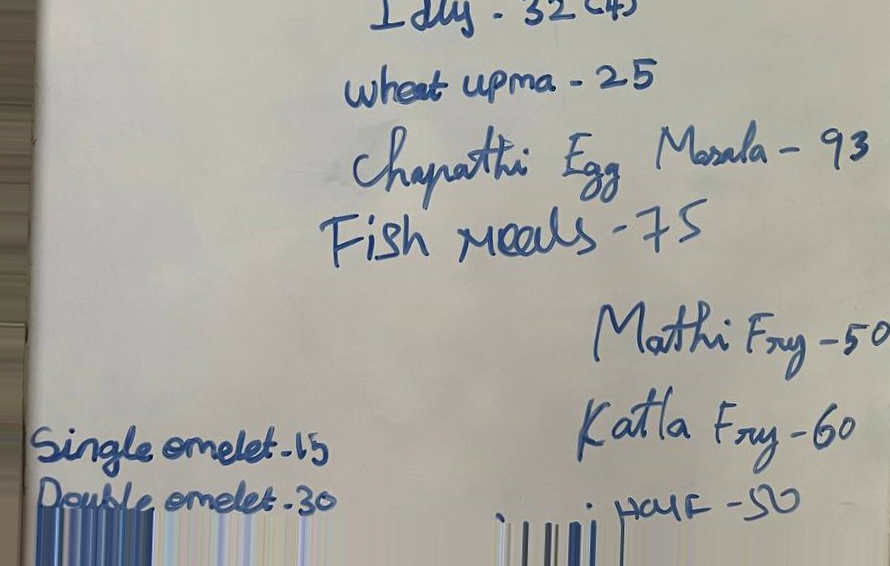chapathi egg masala - 93: (352, 122, 870, 199)
double omelet - 30: (39, 476, 342, 522)
fish Meals - 75: (318, 197, 712, 273)
idly(4) - 32: (368, 1, 641, 40)
katla fry - 60: (572, 388, 872, 466)
mathi fry - 50: (589, 296, 890, 374)
single omelet - 15: (26, 414, 337, 475)
wheat upma - 25: (341, 56, 663, 108)
